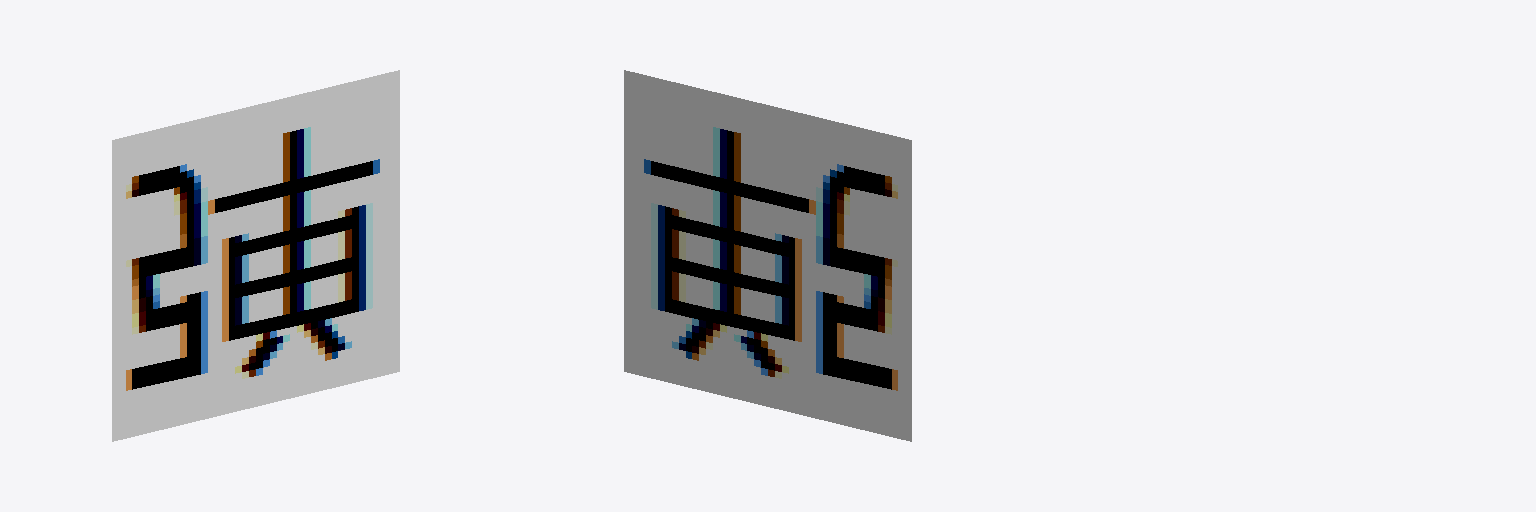
3 views of the same model, side by side, from view 1: azimuth 30°, elevation 25°; view 2: azimuth 150°, elevation 25°; view 3: azimuth 270°, elevation 25° (orthographic).
Visible parts, largest first — view 1: Plane.001; view 2: Plane.001; view 3: none.
Part boxes in pixels (x1,y1,x2,y2): Plane.001: (112,70,399,441); Plane.001: (624,70,911,441).
Size of the model in its own units: 2 by 2 by 0.
1 materials, 1 textured.